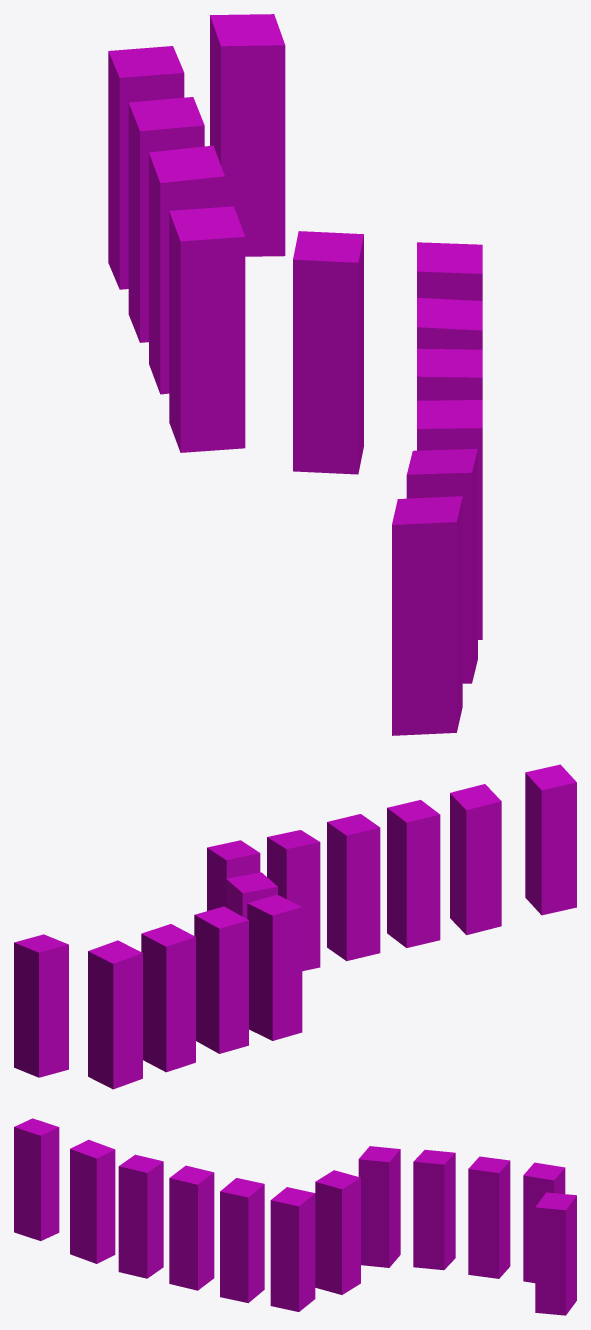
File: M09_Z03_TeethBlock01.glb
3 views of the same model, one above another, from view 1: azimuth 30°, elevation 25°; view 2: azimuth 150°, elevation 25°; view 3: azimuth 270°, elevation 25° (orthographic). The views are drawn at different scales.
Parts seen in each view (by area): view 1: M09_Z03_TEETHBLOCK01; view 2: M09_Z03_TEETHBLOCK01; view 3: M09_Z03_TEETHBLOCK01.
Boxes of the visible parts, box(x1,y1,x2,y2) form: M09_Z03_TEETHBLOCK01: box(108, 14, 482, 735); M09_Z03_TEETHBLOCK01: box(14, 764, 576, 1089); M09_Z03_TEETHBLOCK01: box(14, 1118, 576, 1315).
Size of the model in its own units: 16.43 by 9.31 by 38.55.
